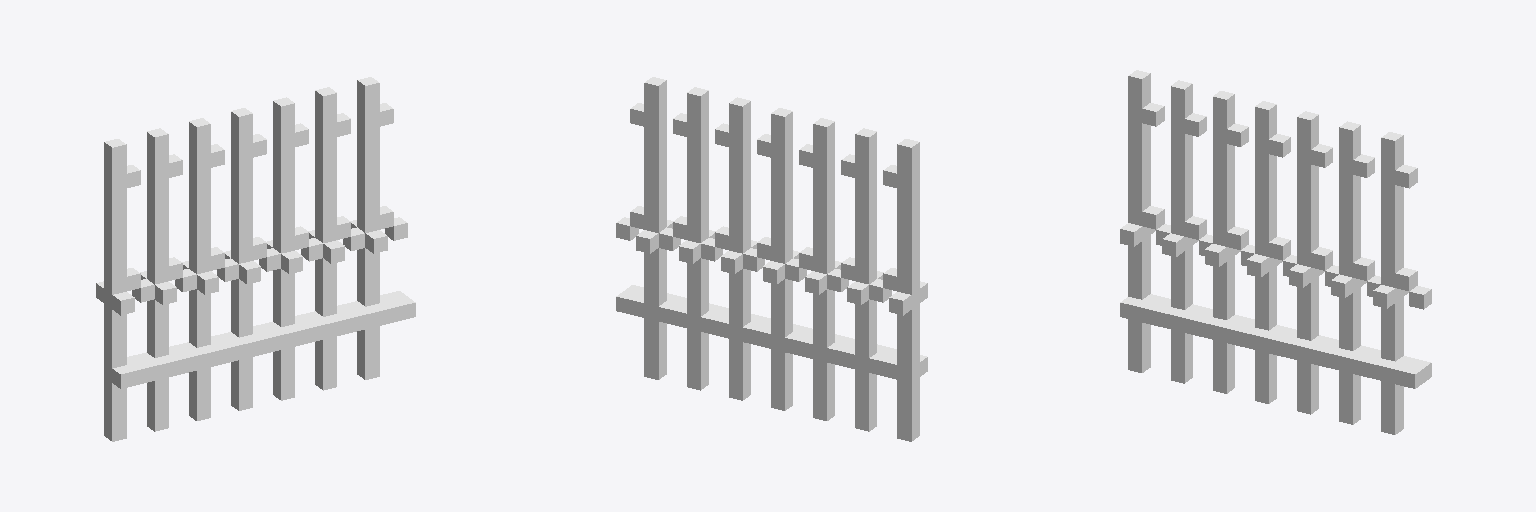
Rendered from SM-7-Fence.obj.
3 views of the same model, side by side, from view 1: azimuth 30°, elevation 25°; view 2: azimuth 150°, elevation 25°; view 3: azimuth 330°, elevation 25° (orthographic).
Parts seen in each view (by area): view 1: Fence; view 2: Fence; view 3: Fence.
Boxes of the visible parts, <box> form: Fence: <box>96,77,415,441</box>; Fence: <box>616,77,927,441</box>; Fence: <box>1120,70,1431,434</box>.
Size of the model in its own units: 2.1 by 2 by 0.3.